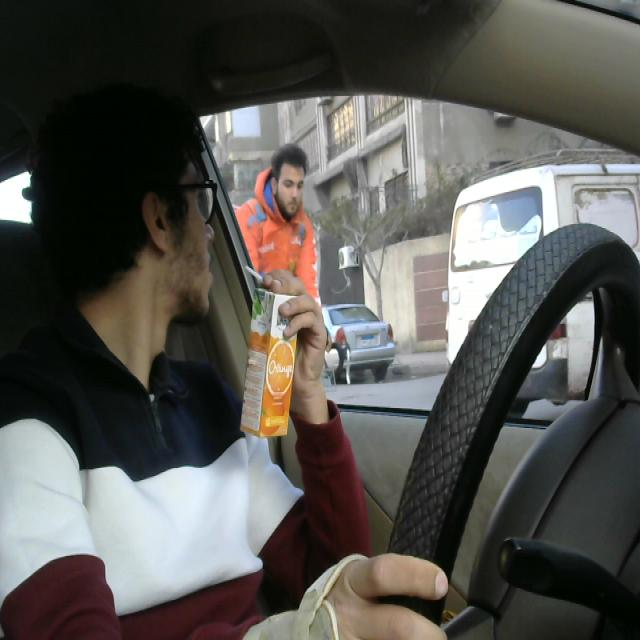drinking: (238, 247, 300, 437)
